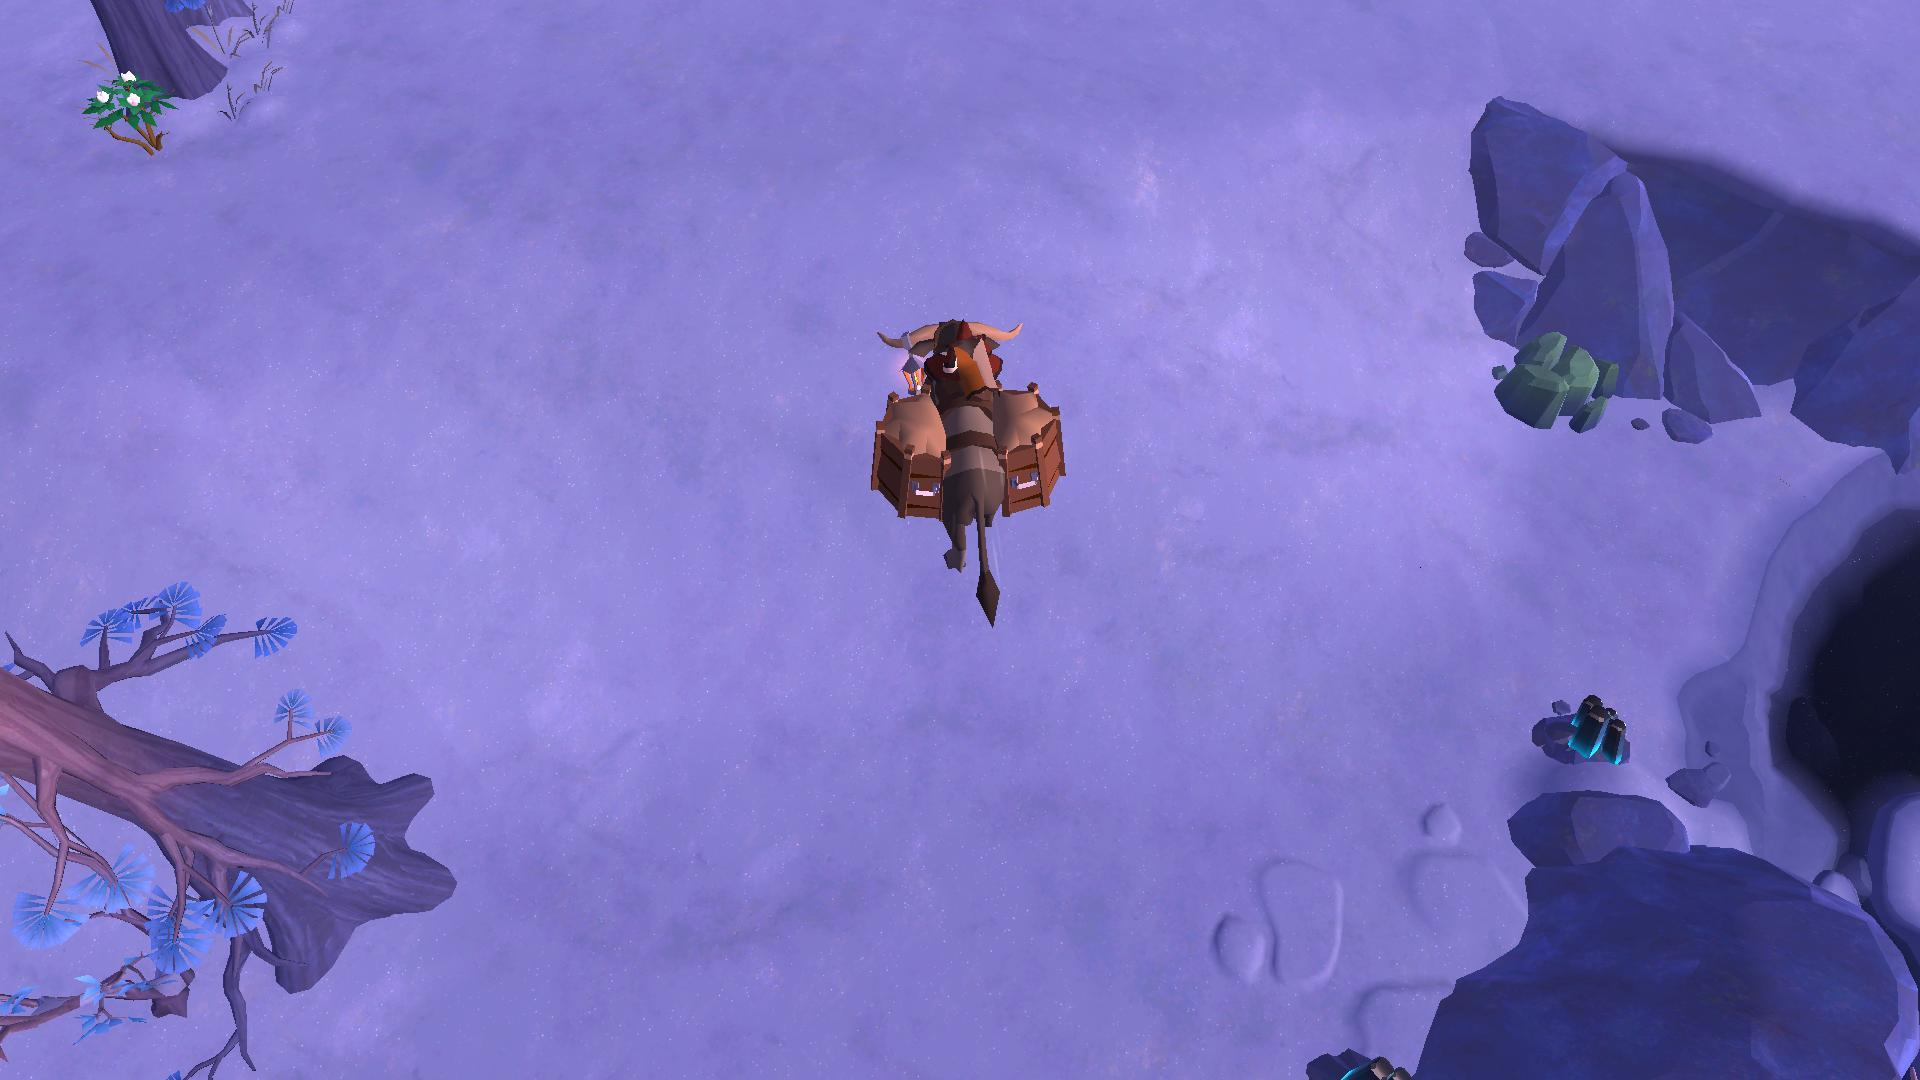fiber_t3: (80, 63, 170, 152)
ore_t4: (1565, 688, 1627, 770), (1335, 1052, 1415, 1080)
rock_t3: (1477, 327, 1627, 442)
